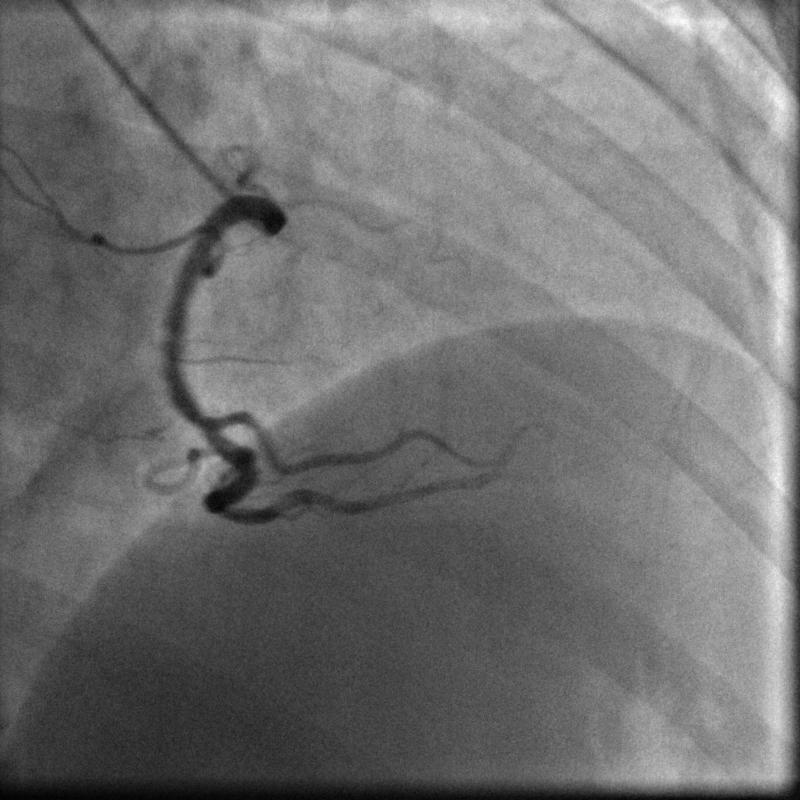Stenosis: (178, 405, 228, 438)
